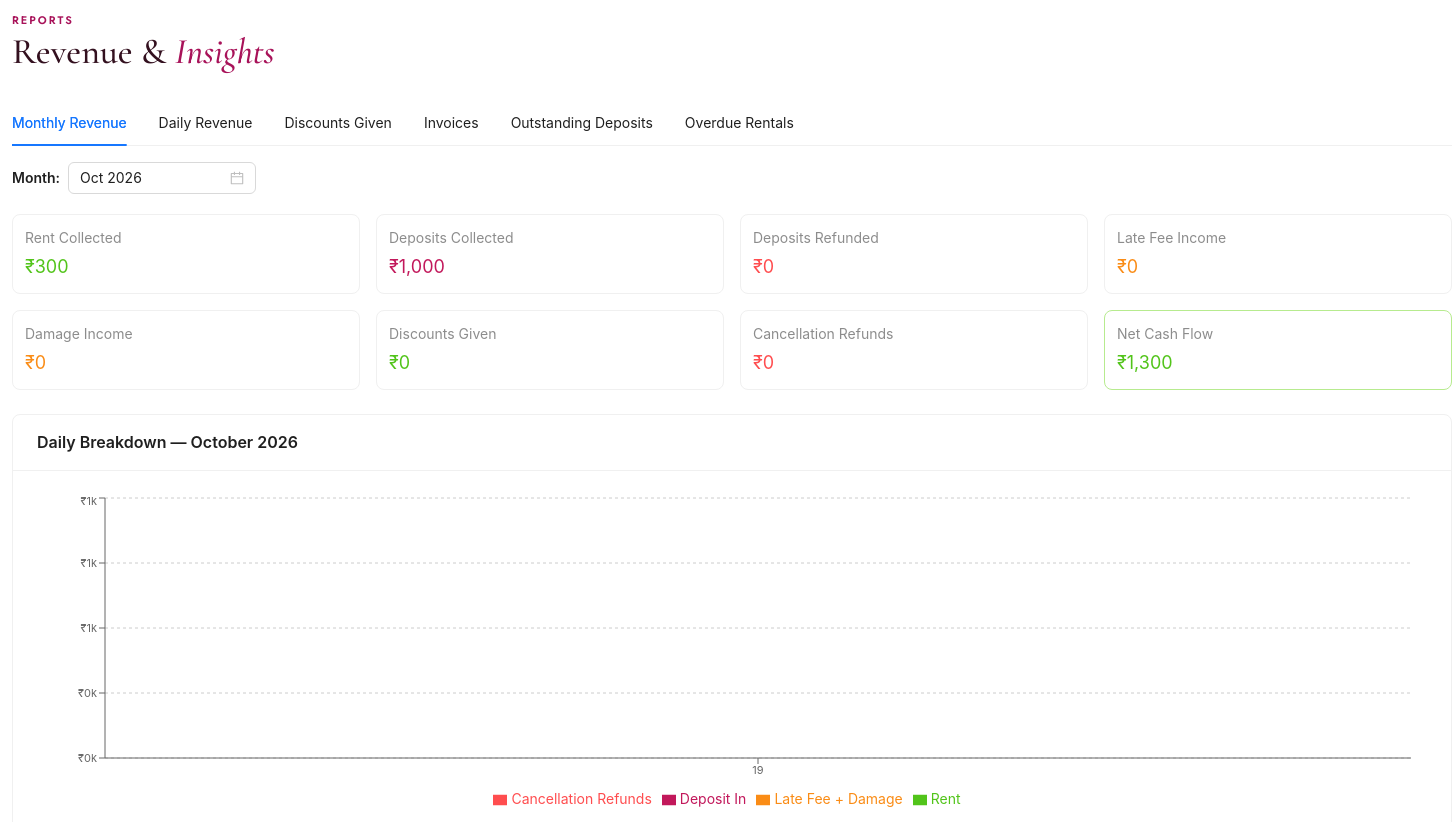
Test: ReportsPage daily revenue cancellations (#166) › shows the refunded amount as a deduction on a day with cancellations
Step 1. Click the tab "Daily Revenue" → (206, 123), box [159,112,252,134]
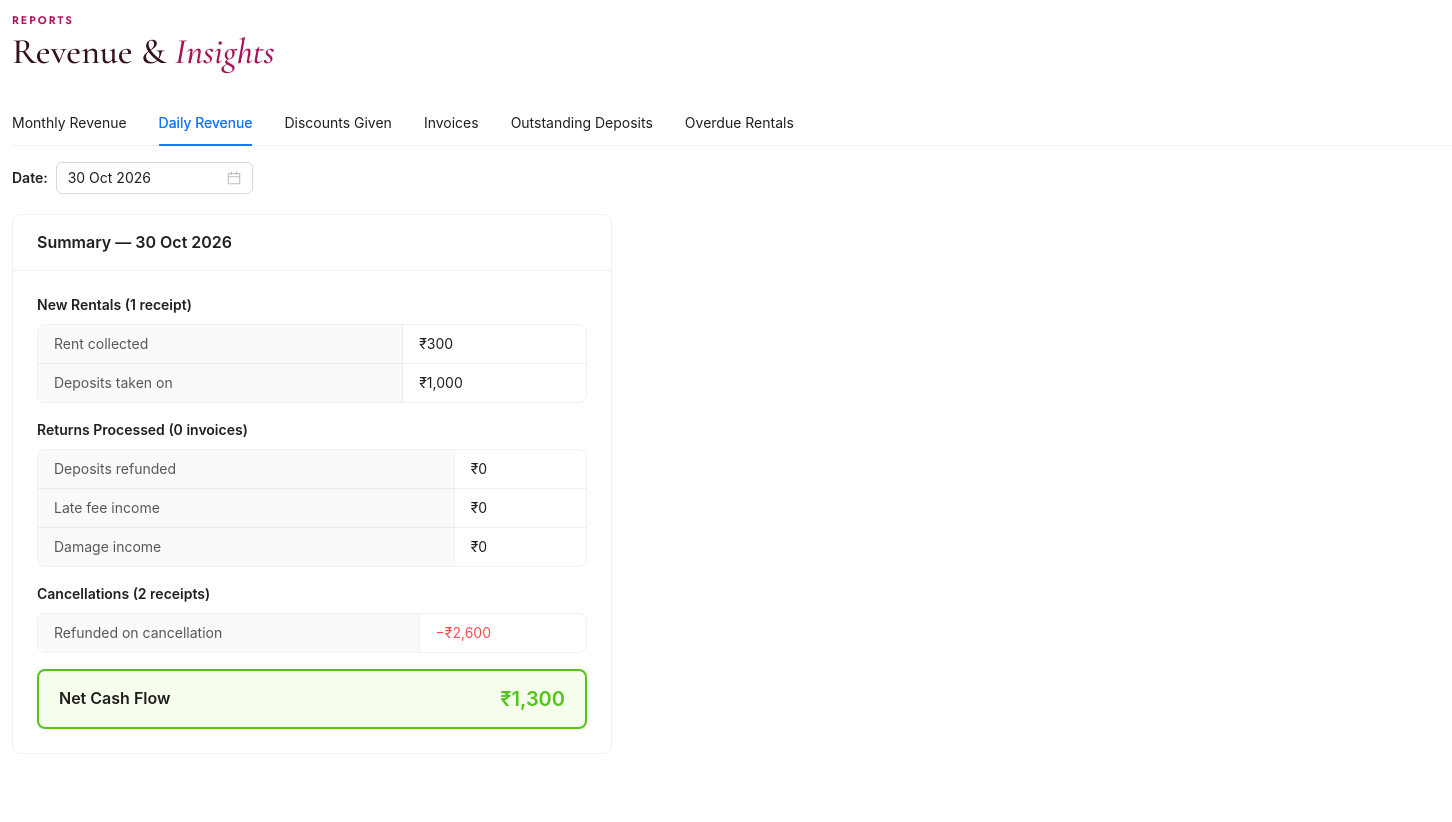
Expected: the text "Cancellations (2 receipts)" is shown, [37,585,210,602]
Expected: the text "Refunded on cancellation" is shown, [54,624,222,641]
Expected: the text "−₹2,600" is shown, [436,624,491,641]
